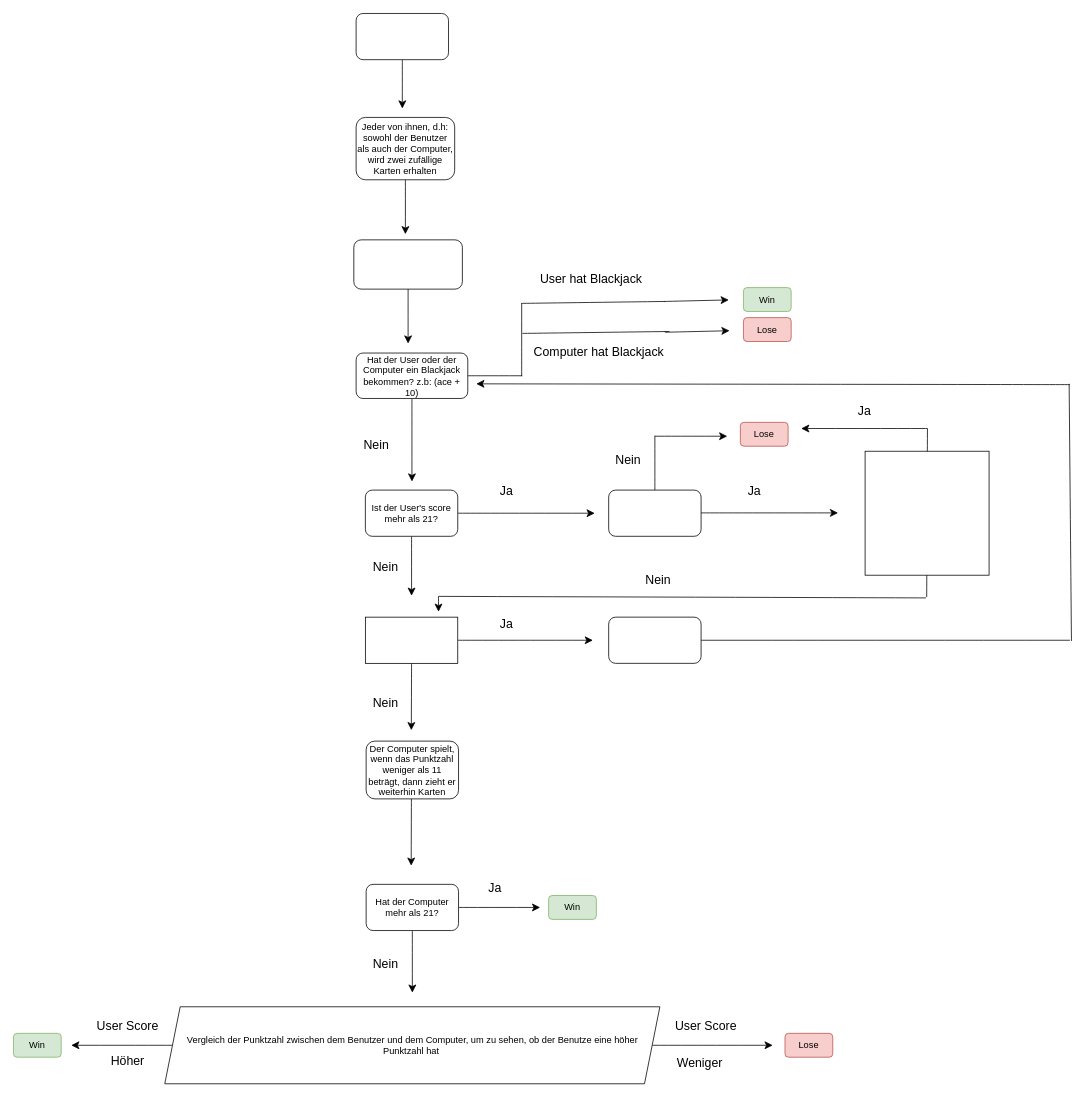
The diagram is 1085 pixels wide and 1097 high, and some of its shapes have lost their labels. The centre of each missing label's shape, as x and y in pixels:
"Das score der Karten des User und Computers wird zusammenhinzugefügt" belongs at pixel 407 264.
"Eine andere Karte ziehen" belongs at pixel 654 639.
"Frag der User, ob er eine andere Karte möchte" belongs at pixel 411 639.
"Haben Sie ein Ace?" belongs at pixel 654 512.
"Start" belongs at pixel 402 36.
"Wird die Ace-Karte als 1 oder 11 gezählt? Ist die Gesamtpunktzahl mehr als 21?" belongs at pixel 926 512.
